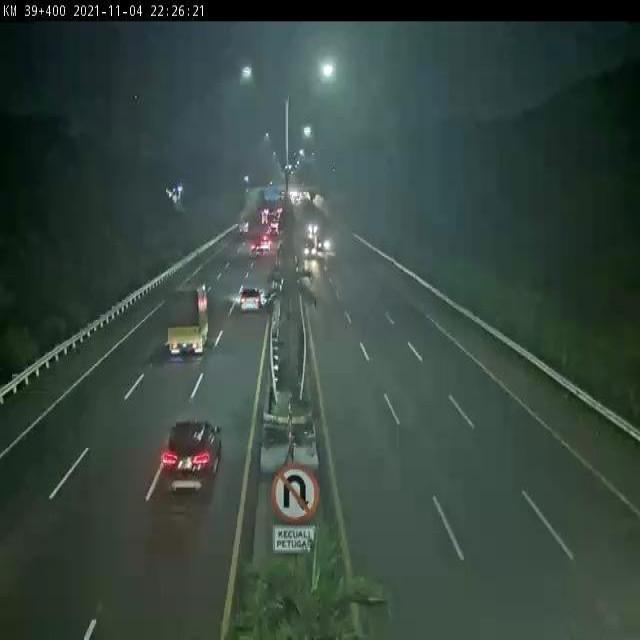car: (164, 420, 221, 493), (239, 285, 262, 311), (303, 237, 316, 259), (250, 240, 262, 255), (317, 239, 330, 252), (260, 237, 271, 251)
truck-m-: (166, 282, 209, 358)
